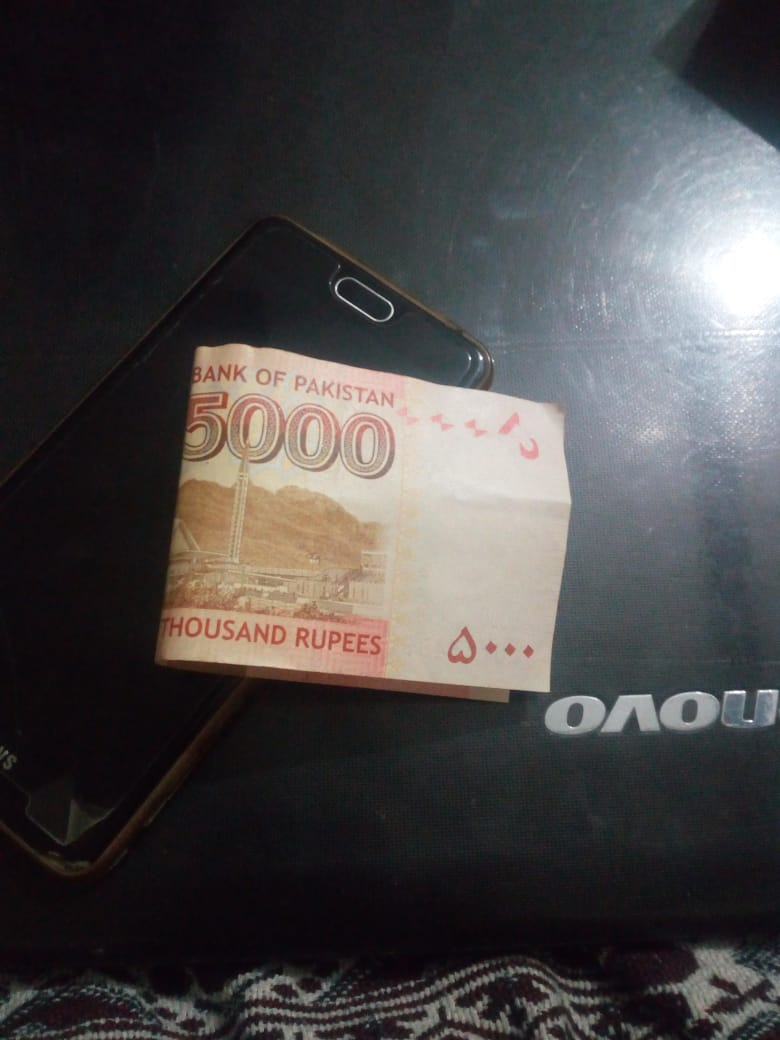5000 rupee: (164, 343, 578, 715)
